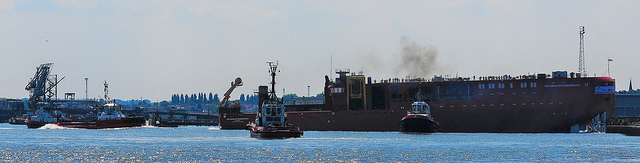PCC: (219, 61, 618, 133)
tug_boat: (245, 61, 303, 138), (61, 89, 137, 131), (392, 89, 445, 140), (26, 96, 56, 136)
